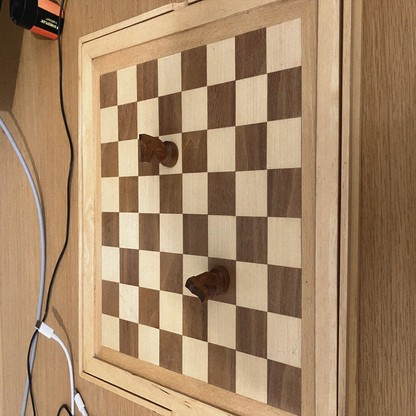knight_black: (186, 266, 230, 300), (140, 134, 178, 167)
